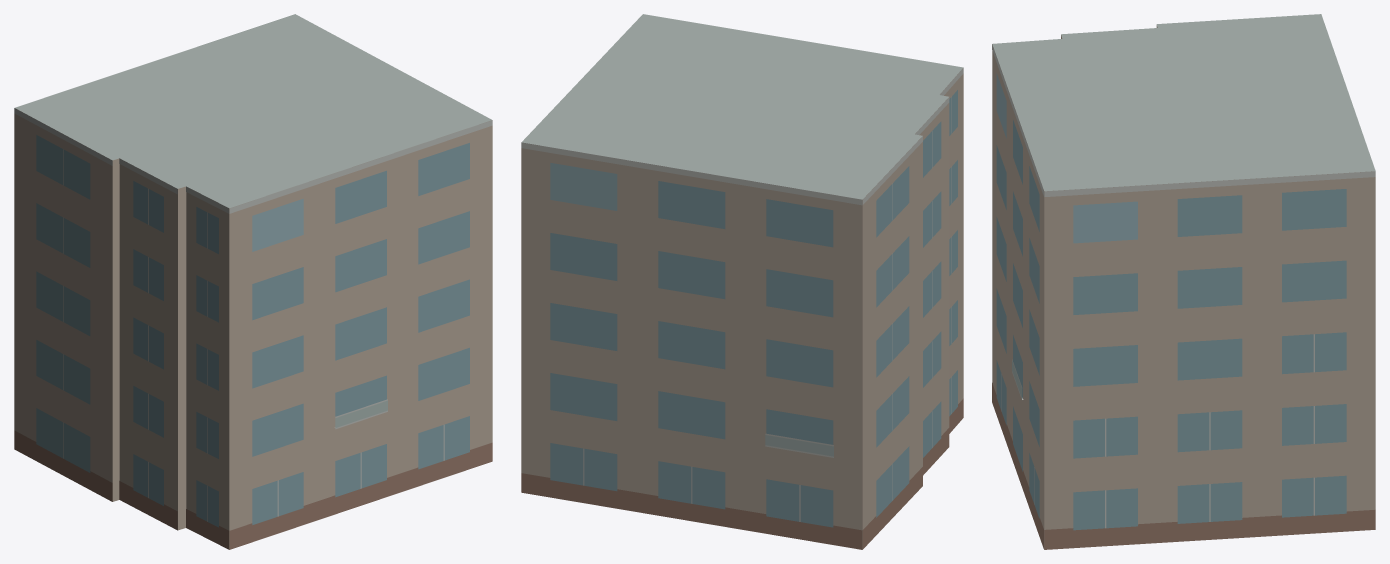
File: survey-upis-32870342.glb
3 views of the same model, side by side, from view 1: azimuth 30°, elevation 25°; view 2: azimuth 150°, elevation 25°; view 3: azimuth 270°, elevation 25° (orthographic). The views are drawn at different scales.
Visible parts, largest first — view 1: survey-upis-32870342.tmp; view 2: survey-upis-32870342.tmp; view 3: survey-upis-32870342.tmp.
Boxes of the visible parts, box(x1,y1,x2,y2) form: survey-upis-32870342.tmp: box(14, 14, 492, 549); survey-upis-32870342.tmp: box(521, 14, 963, 549); survey-upis-32870342.tmp: box(992, 14, 1375, 549).
Size of the model in its own units: 15.81 by 14.9 by 14.46.
